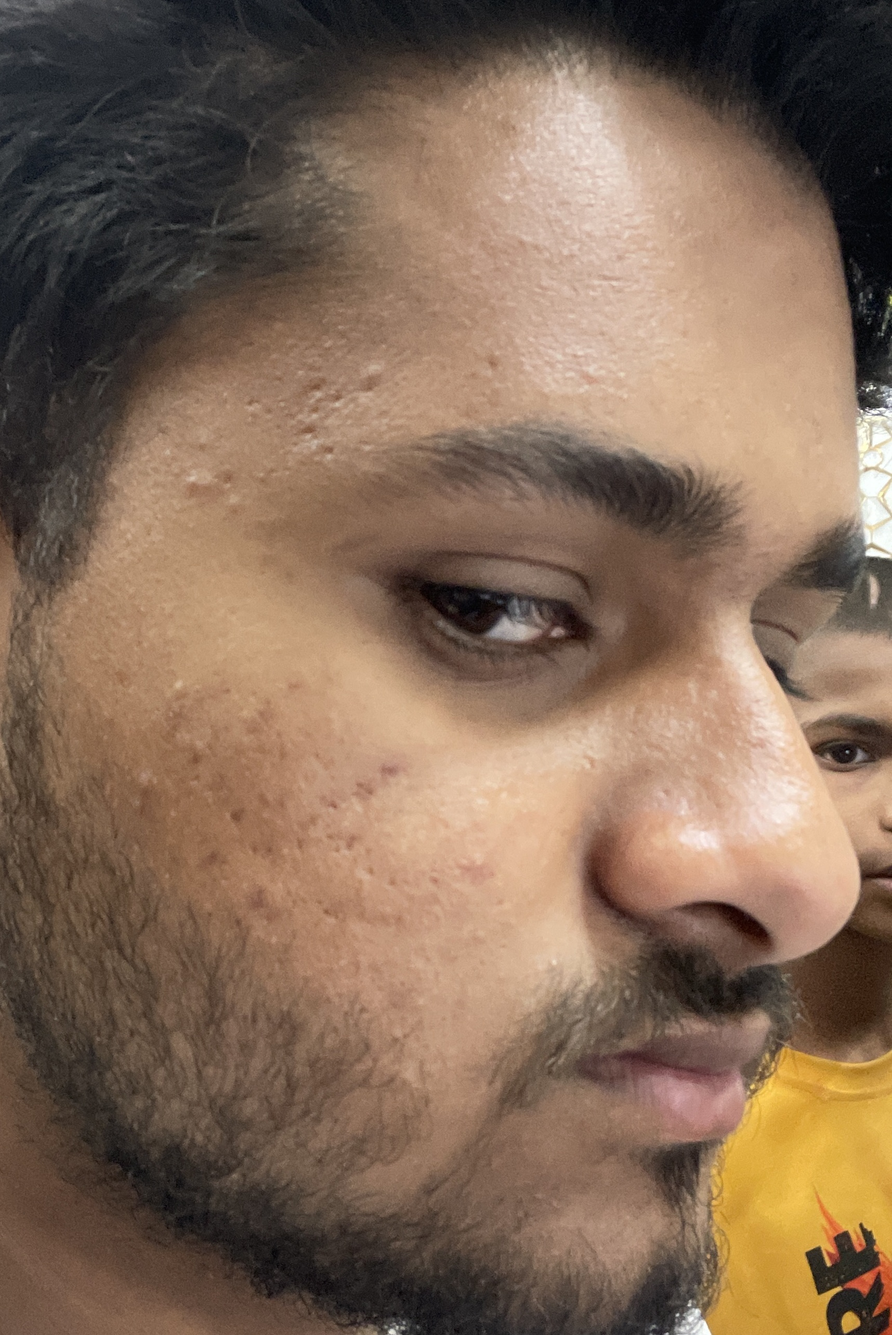papule: (108, 747, 190, 826), (167, 452, 245, 535), (368, 1015, 434, 1090), (152, 659, 218, 729), (350, 326, 410, 396), (445, 844, 515, 892)
